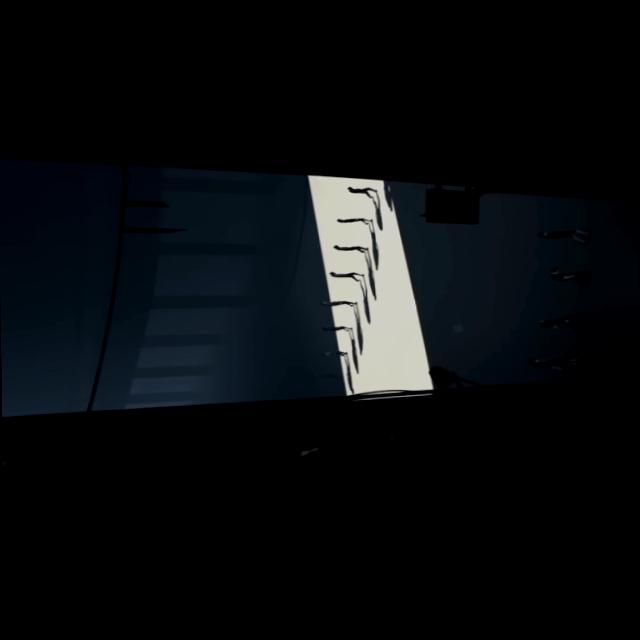boy: (300, 424, 400, 454)
zombie: (537, 227, 590, 242), (550, 265, 588, 284), (528, 356, 580, 369), (540, 314, 582, 328), (348, 184, 378, 197), (329, 270, 363, 280), (332, 243, 368, 252), (337, 216, 372, 224), (320, 299, 356, 306), (322, 324, 352, 331), (322, 350, 347, 355)
